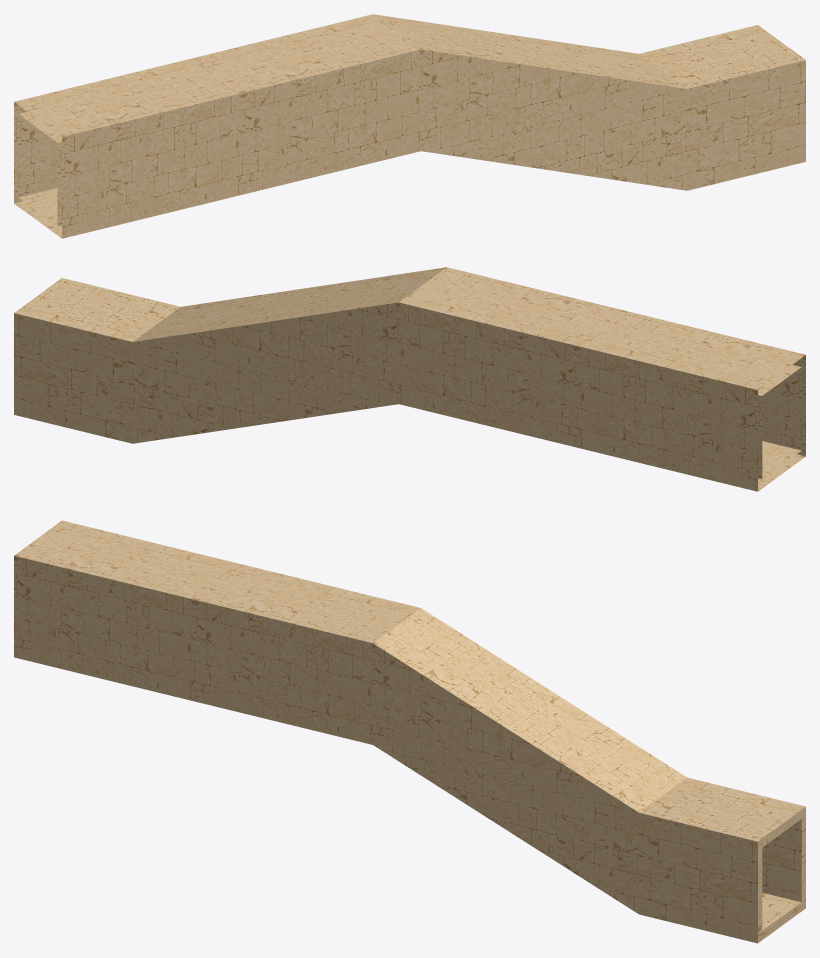
Rendered from pyramid_exit_hallway.fbx.
The picture shows the model from 3 angles, top to bottom: view 1: azimuth 30°, elevation 25°; view 2: azimuth 150°, elevation 25°; view 3: azimuth 330°, elevation 25°; orthographic projection.
Visible parts, largest first — view 1: Cube.001; view 2: Cube.001; view 3: Cube.001.
Part boxes in pixels (x1,y1,x2,y2): Cube.001: (14, 14, 805, 238); Cube.001: (14, 267, 805, 491); Cube.001: (14, 520, 805, 943).
Size of the model in its own units: 8150 by 2160 by 913.
